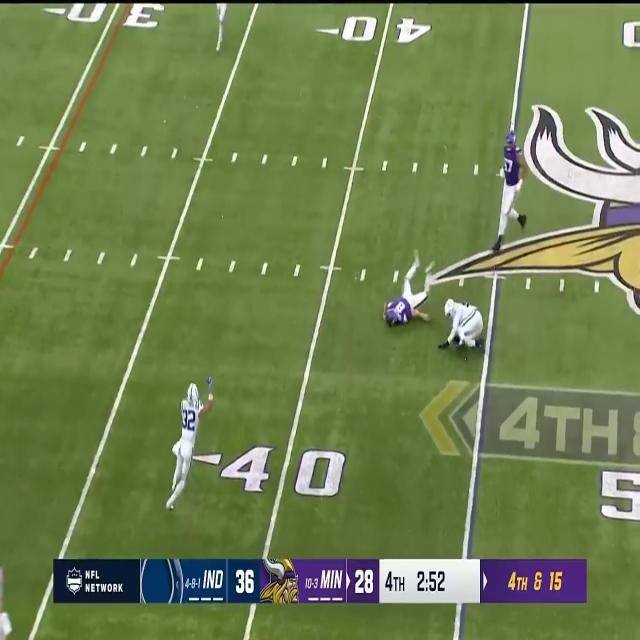players: (164, 374, 210, 518), (492, 129, 528, 253), (441, 294, 483, 352), (381, 282, 429, 331)
